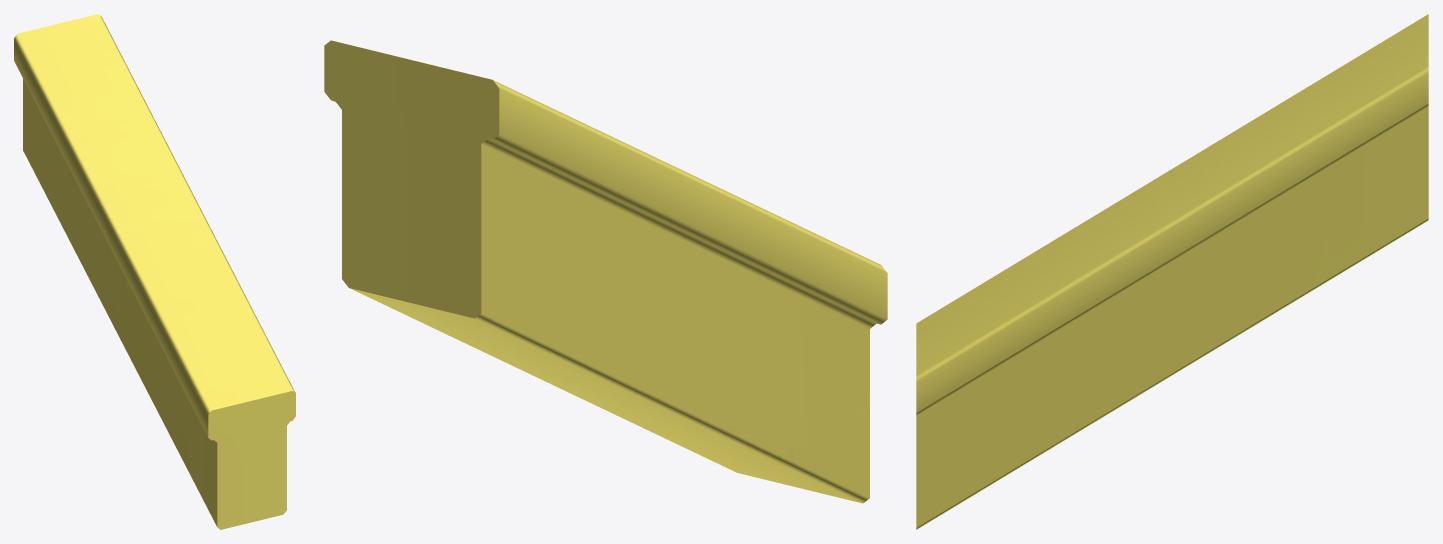
File: mod_sc_roma_001_railing_004.fbx
3 renders of one model, left to right at view 1: azimuth 30°, elevation 25°; view 2: azimuth 150°, elevation 25°; view 3: azimuth 270°, elevation 25°, orthographic. The views are drawn at different scales.
Parts seen in each view (by area): view 1: mod_sc_roma_001_railing_004; view 2: mod_sc_roma_001_railing_004; view 3: mod_sc_roma_001_railing_004.
Boxes of the visible parts, left/top/right/bottom form: mod_sc_roma_001_railing_004: left=14, top=14, right=295, bottom=529; mod_sc_roma_001_railing_004: left=324, top=40, right=887, bottom=503; mod_sc_roma_001_railing_004: left=916, top=14, right=1428, bottom=529.
Size of what is drawn, in the model's own units: 75.38 by 293 by 290.
Materials: 1 (1 with a texture image).
